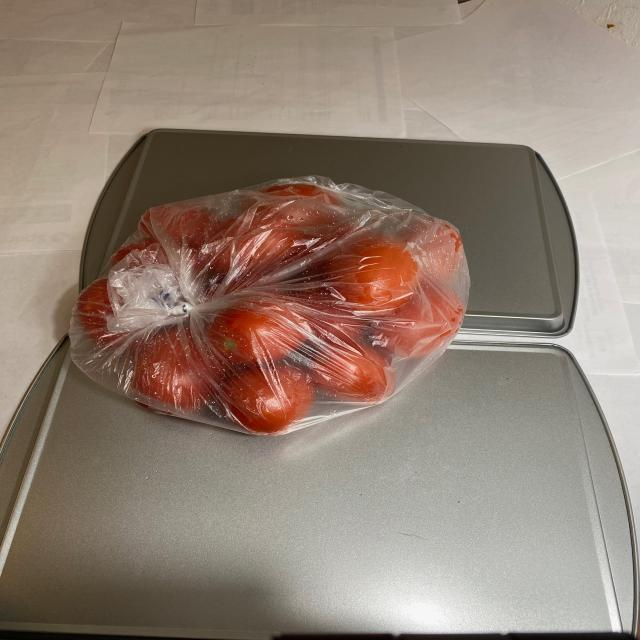tomato: (63, 194, 472, 430)
